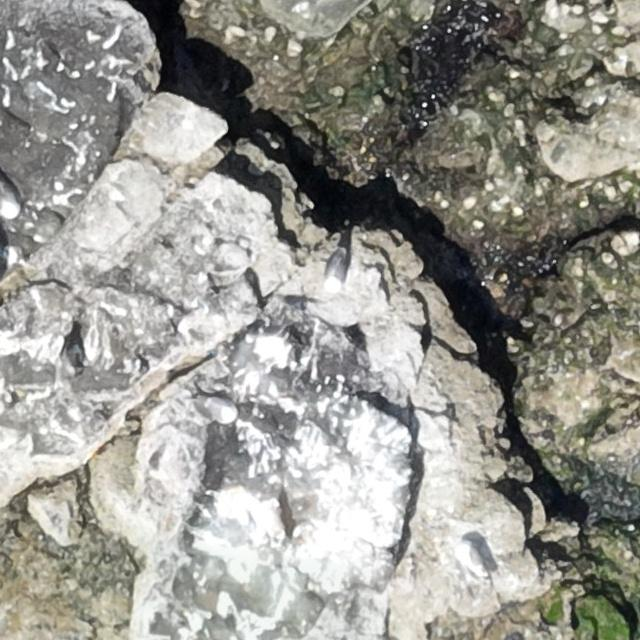umineko: (450, 537, 490, 579), (195, 391, 240, 422), (324, 246, 348, 294), (1, 178, 22, 218)
